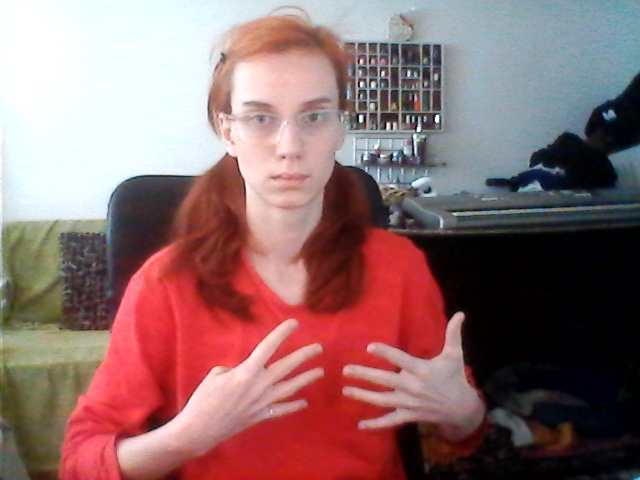devat: (197, 308, 479, 434)
